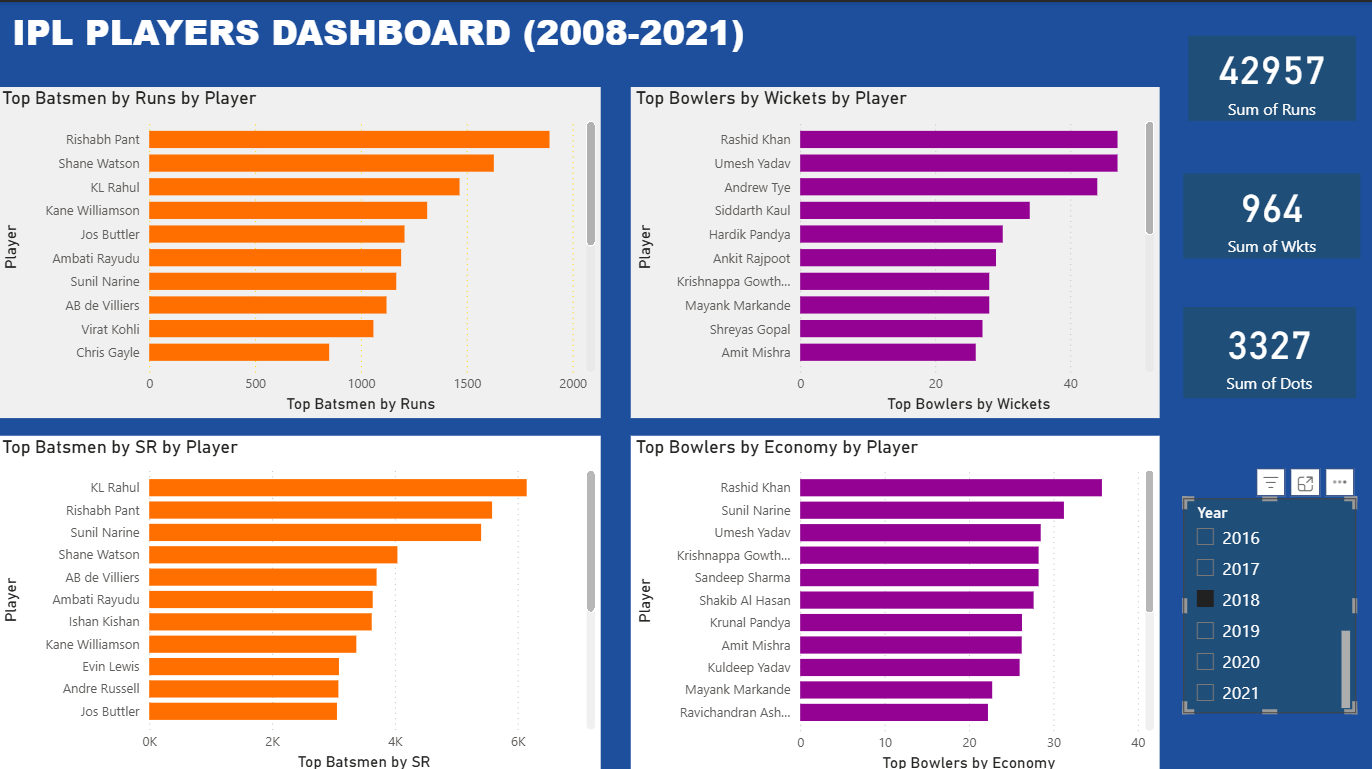

The dashboard page shown, as its layout file describes it:
{"tool":"powerbi","page":{"name":"Page 1","canvas":[1280,720],"ordinal":0},"visuals":[{"type":"textbox","box":[9.6,0,695.7,61.7],"z":0},{"type":"clusteredBarChart","fields":{"Category":["All Seasons Combined.Player"],"Y":["All Seasons Combined.Runs"]},"box":[0,79.1,561.6,308.1],"z":1000},{"type":"clusteredBarChart","fields":{"Category":["All Seasons Combined.Player"],"Y":["All Seasons Combined.Wkts"]},"box":[589.5,79.1,491.9,308.1],"z":2000},{"type":"clusteredBarChart","fields":{"Category":["All Seasons Combined.Player"],"Y":["All Seasons Combined.SR"]},"box":[0,403.5,561.6,316.3],"z":3000},{"type":"clusteredBarChart","fields":{"Category":["All Seasons Combined.Player"],"Y":["All Seasons Combined.Econ"]},"box":[589.5,403.5,491.9,317.4],"z":4000},{"type":"card","fields":{"Values":["All Seasons Combined.Runs"]},"box":[1108.1,31.4,155.8,79.1],"z":5000},{"type":"card","fields":{"Values":["All Seasons Combined.Wkts"]},"box":[1103.5,159.3,165.1,79.1],"z":6000},{"type":"card","fields":{"Values":["All Seasons Combined.Dots"]},"box":[1103.5,283.7,160.5,84.9],"z":7000},{"type":"slicer","fields":{"Values":["All Seasons Combined.Match Date.Variation.Date Hierarchy.Year"]},"box":[1103.5,461.6,160.5,200],"z":8000}]}

Visuals, with their boxes in screenshot pixels (x1, y1, x2, y2), scaled from the page's 1280x720 canvas onto the 1372x769 screenshot:
textbox: crop(10, 0, 756, 66)
clusteredBarChart - All Seasons Combined.Player x All Seasons Combined.Runs: crop(0, 84, 602, 414)
clusteredBarChart - All Seasons Combined.Player x All Seasons Combined.Wkts: crop(632, 84, 1159, 414)
clusteredBarChart - All Seasons Combined.Player x All Seasons Combined.SR: crop(0, 431, 602, 768)
clusteredBarChart - All Seasons Combined.Player x All Seasons Combined.Econ: crop(632, 431, 1159, 768)
card - All Seasons Combined.Runs: crop(1188, 34, 1355, 118)
card - All Seasons Combined.Wkts: crop(1183, 170, 1360, 255)
card - All Seasons Combined.Dots: crop(1183, 303, 1355, 394)
slicer - All Seasons Combined.Match Date.Variation.Date Hierarchy.Year: crop(1183, 493, 1355, 707)
